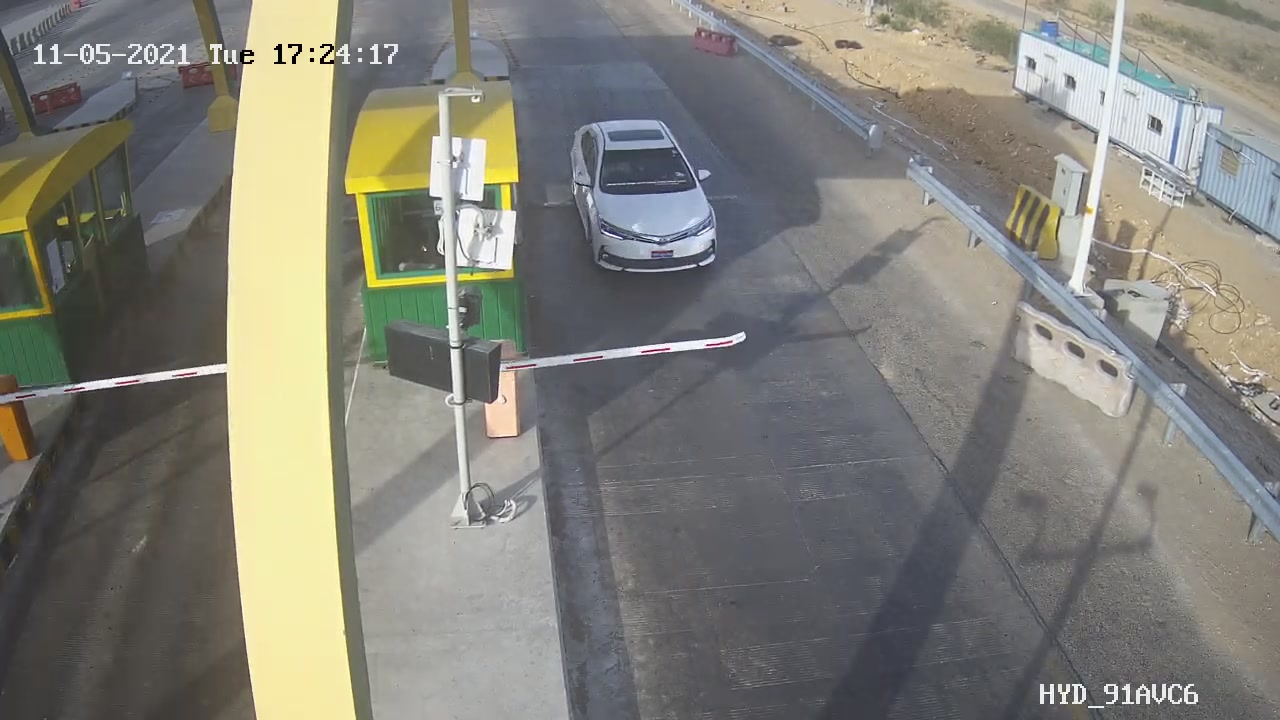F1: (550, 107, 738, 286)
